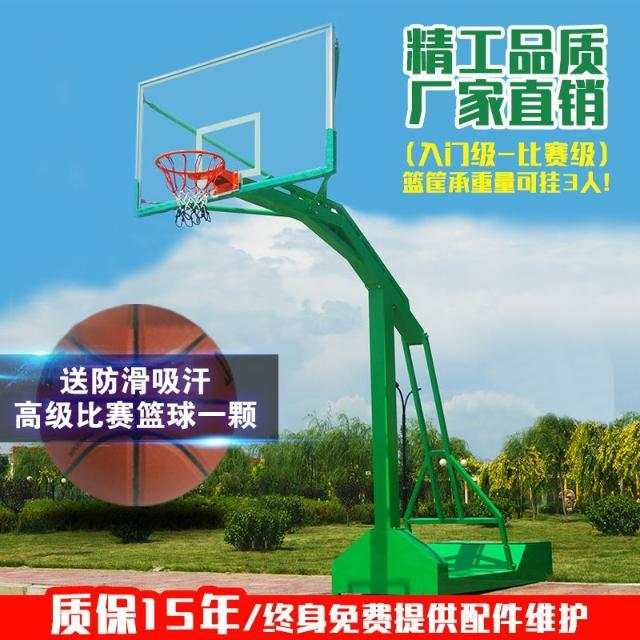rim: (157, 148, 225, 228)
